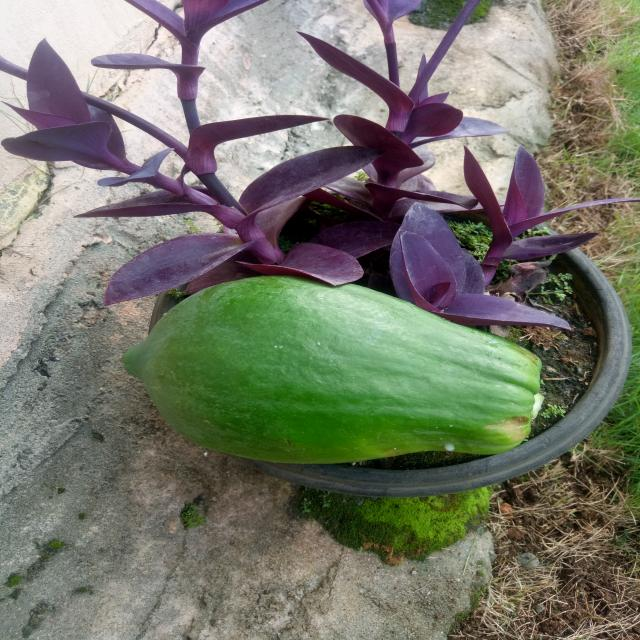Pepaya unrippen: (115, 276, 548, 477)
